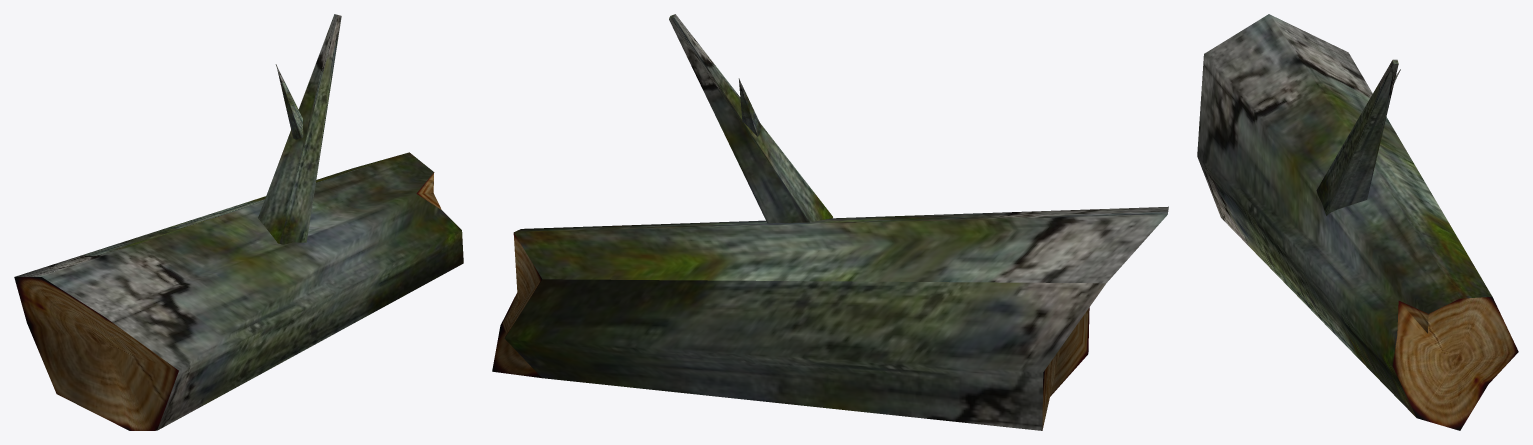
Rendered from pir_m_prp_dvj_log_a.fbx.
3 renders of one model, left to right at view 1: azimuth 30°, elevation 25°; view 2: azimuth 150°, elevation 25°; view 3: azimuth 270°, elevation 25°, orthographic. The views are drawn at different scales.
Visible parts, largest first — view 1: lod_high; view 2: lod_high; view 3: lod_high.
Boxes of the visible parts, x1,y1,x2,y2 form: lod_high: (14,14,463,430); lod_high: (492,14,1168,430); lod_high: (1197,14,1518,430).
Size of the model in its own units: 667 by 412 by 374.
Materials: 1 (1 with a texture image).
